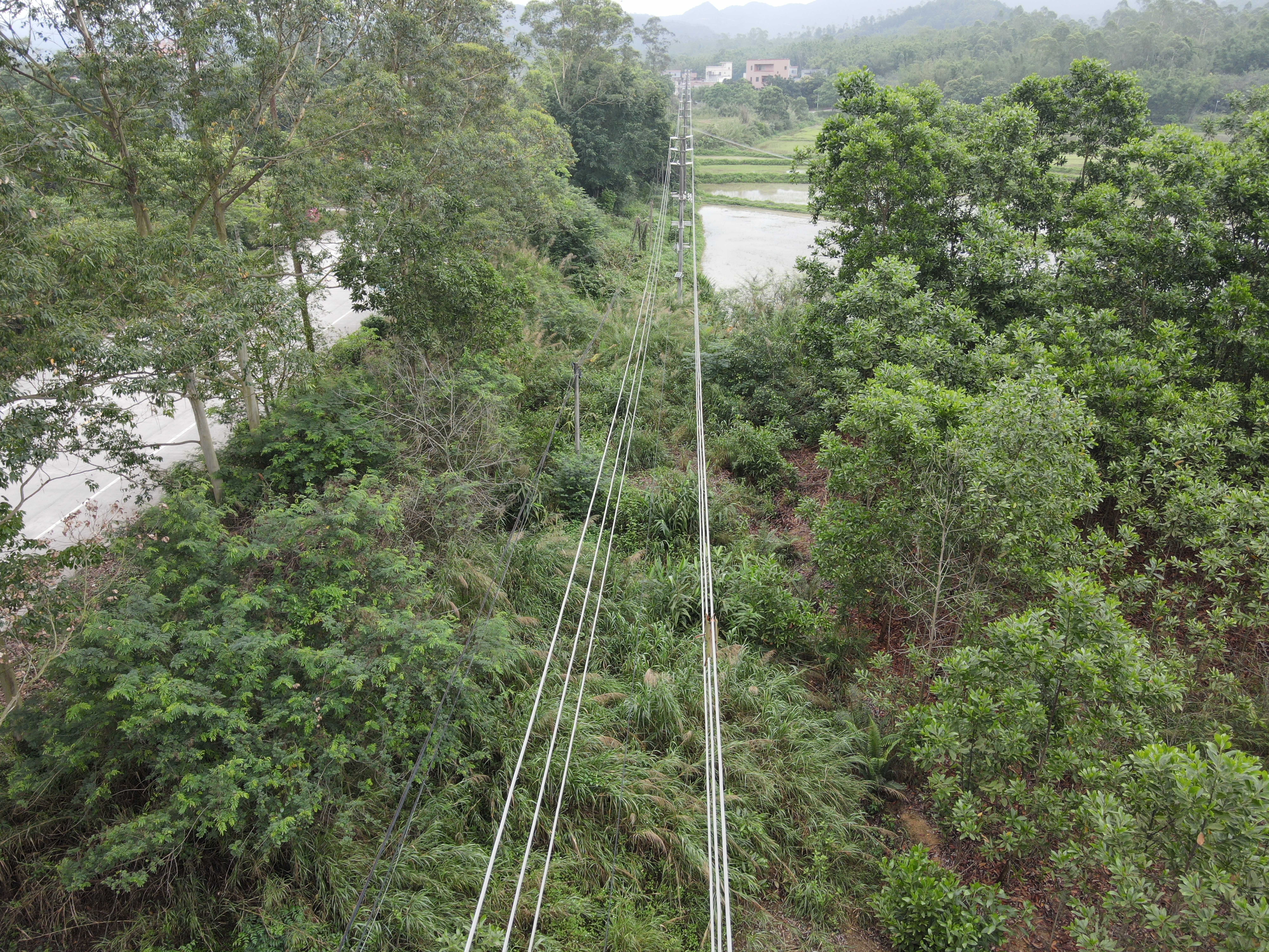异物: (694, 613, 718, 666), (629, 217, 649, 251), (649, 200, 654, 230)
